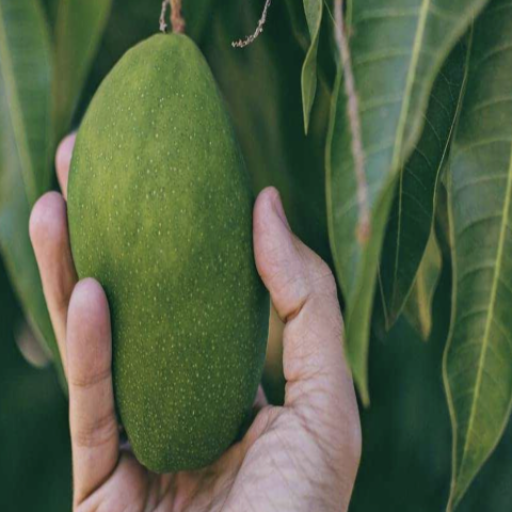mango: (2, 12, 307, 489)
